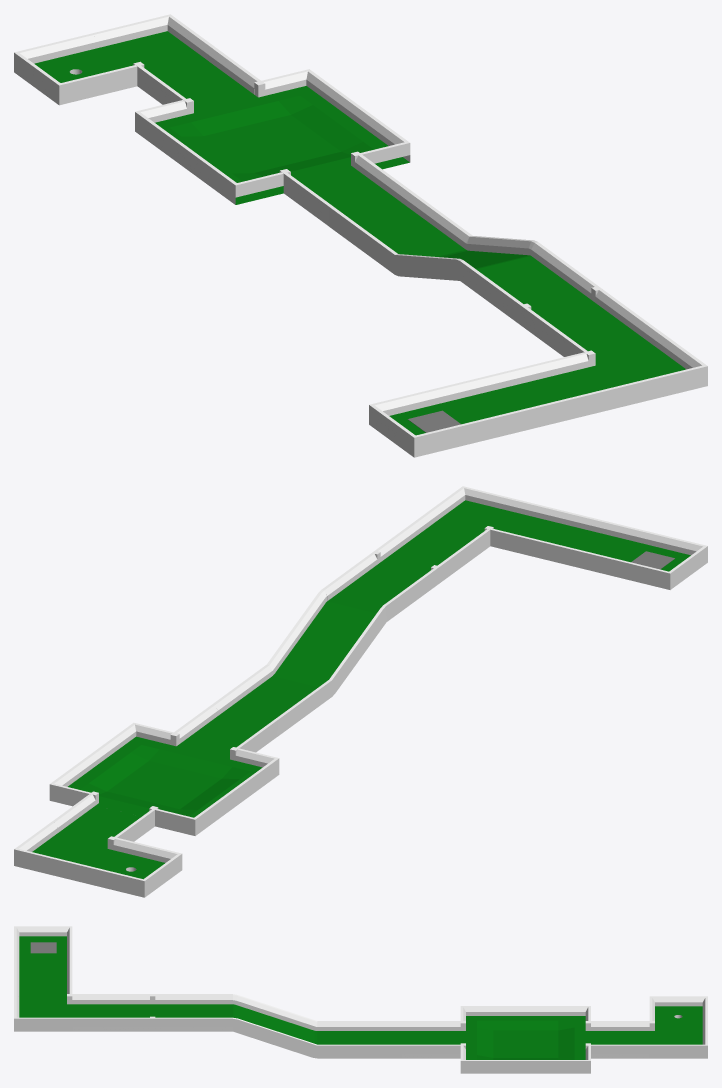
The model's file is Level7Model.obj.
3 renders of one model, top to bottom at view 1: azimuth 30°, elevation 25°; view 2: azimuth 150°, elevation 25°; view 3: azimuth 270°, elevation 25°, orthographic. The views are drawn at different scales.
Visible parts, largest first — view 1: pCube315; view 2: pCube315; view 3: pCube315.
Boxes of the visible parts, bbox=[...] form: pCube315: bbox=[14, 14, 707, 457]; pCube315: bbox=[14, 486, 707, 897]; pCube315: bbox=[14, 926, 707, 1073].
Bounding box in the file's own units: 9.8 × 1.68 × 26.67.
Materials: 3 (2 with a texture image).
